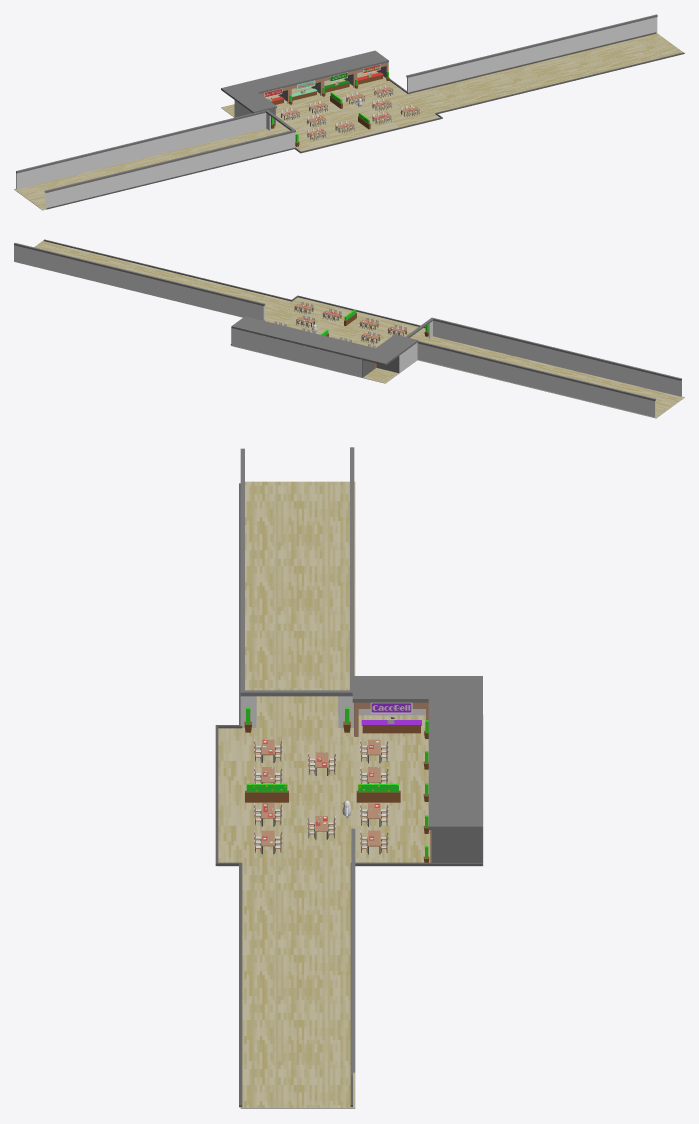
File: ShoppingFoodSectionExport.fbx
The picture shows the model from 3 angles, top to bottom: view 1: azimuth 30°, elevation 25°; view 2: azimuth 150°, elevation 25°; view 3: azimuth 270°, elevation 25°; orthographic projection. The views are drawn at different scales.
Parts seen in each view (by area): view 1: Restaurants, Floor, Cube.021; view 2: Restaurants, Floor; view 3: Floor, Restaurants, Cube.021.
Part boxes in pixels (bbox=[...]): Restaurants: bbox=[16, 14, 657, 209]; Floor: bbox=[14, 32, 684, 210]; Cube.021: bbox=[263, 64, 383, 104]; Restaurants: bbox=[14, 243, 681, 417]; Floor: bbox=[14, 239, 684, 418]; Floor: bbox=[215, 481, 483, 1108]; Restaurants: bbox=[240, 447, 482, 1075]; Cube.021: bbox=[361, 702, 430, 833].
Size of the model in its own units: 12729 by 375 by 2299.
